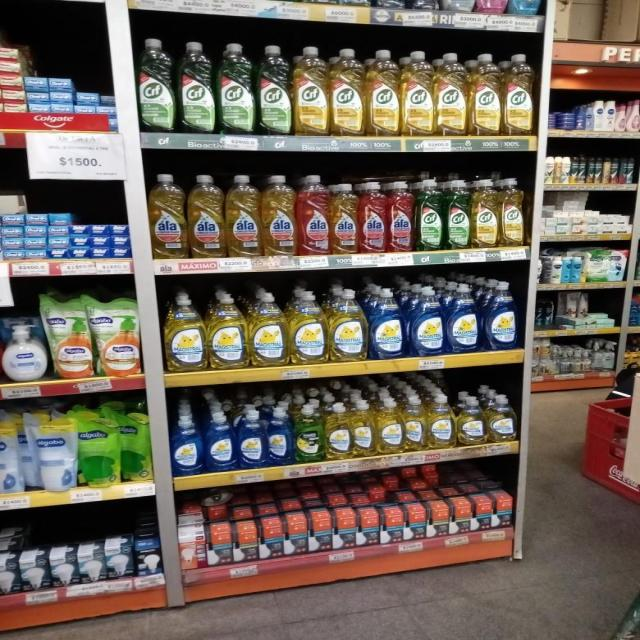ala_conc_amarillo: (149, 173, 187, 259), (188, 174, 224, 258), (226, 173, 261, 258), (262, 174, 296, 256), (331, 182, 358, 255)
ala_conc_azul: (373, 0, 407, 9), (408, 0, 438, 10)
ala_conc_rojo: (298, 174, 330, 256), (359, 181, 386, 253), (388, 180, 414, 253), (477, 0, 510, 14)
cif_conc_bot_amarilla: (293, 46, 328, 136), (330, 48, 364, 137), (366, 48, 399, 136), (468, 53, 502, 137), (401, 51, 433, 137), (435, 52, 467, 136), (504, 53, 534, 136), (472, 178, 499, 248), (500, 177, 525, 247)
cif_conc_botella_verde: (138, 38, 175, 134), (217, 42, 255, 135), (178, 41, 215, 134), (257, 44, 291, 135), (416, 178, 444, 252), (445, 178, 471, 250)
gigante: (1, 325, 46, 382)
magistral_con_amarillo: (164, 293, 206, 372), (208, 292, 247, 370), (329, 288, 367, 362), (250, 291, 287, 367), (290, 290, 326, 365), (325, 402, 351, 460), (457, 396, 487, 446), (428, 394, 455, 449), (352, 399, 377, 458), (488, 394, 518, 443), (378, 398, 403, 454), (404, 395, 426, 452)
magistral_con_azul: (368, 286, 406, 359), (408, 284, 444, 356), (446, 282, 481, 354), (485, 280, 518, 350), (170, 413, 203, 476), (205, 411, 236, 472), (237, 409, 266, 469), (267, 407, 293, 466)
